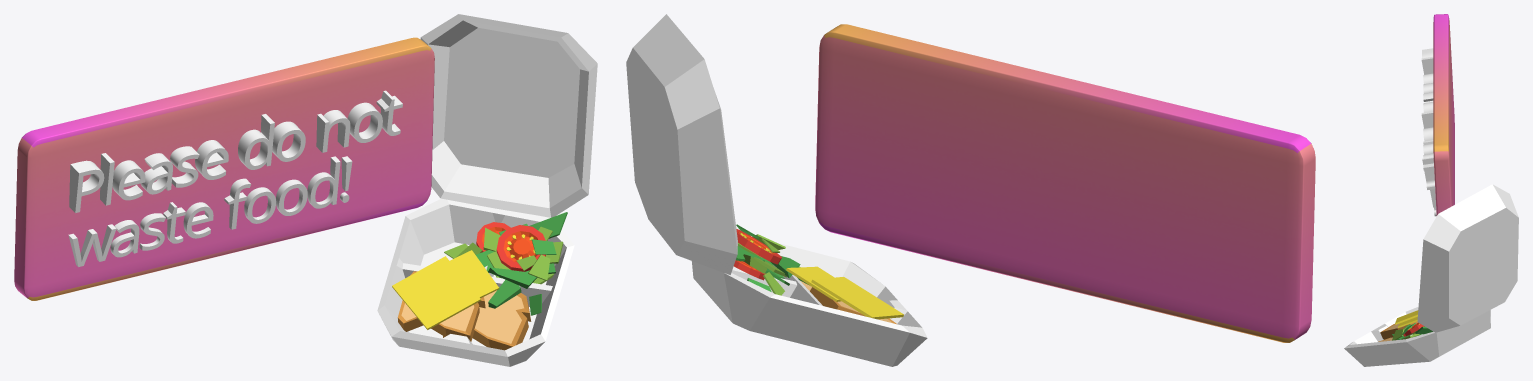
Rendered from Project Name.obj.
3 views of the same model, side by side, from view 1: azimuth 30°, elevation 25°; view 2: azimuth 150°, elevation 25°; view 3: azimuth 270°, elevation 25° (orthographic). The views are drawn at different scales.
Parts seen in each view (by area): view 1: 021_background_-_social_good, 052_mesh1472431247, 026_mesh1318984881, 025_Buffer_Layer, 016_d, 010_P, 027_mesh1788740791, 012_e, 000_w, 015_e, 013_a, 018_n (+20 smaller); view 2: 021_background_-_social_good, 052_mesh1472431247, 026_mesh1318984881, 027_mesh1788740791; view 3: 052_mesh1472431247, 021_background_-_social_good, 020_t, 011_l, 016_d, 022_mesh1298366004, 026_mesh1318984881.
Boxes of the visible parts, left/top/right/bottom form: 021_background_-_social_good: left=14, top=37, right=434, bottom=300; 052_mesh1472431247: left=377, top=14, right=597, bottom=366; 026_mesh1318984881: left=392, top=256, right=480, bottom=329; 025_Buffer_Layer: left=475, top=290, right=523, bottom=343; 016_d: left=238, top=114, right=274, bottom=169; 010_P: left=69, top=160, right=104, bottom=212; 027_mesh1788740791: left=450, top=250, right=499, bottom=298; 012_e: left=112, top=160, right=145, bottom=200; 000_w: left=68, top=224, right=116, bottom=266; 015_e: left=195, top=140, right=228, bottom=179; 013_a: left=140, top=153, right=172, bottom=194; 018_n: left=316, top=110, right=350, bottom=152; 021_background_-_social_good: left=815, top=24, right=1315, bottom=342; 052_mesh1472431247: left=626, top=14, right=927, bottom=366; 026_mesh1318984881: left=811, top=277, right=903, bottom=319; 027_mesh1788740791: left=786, top=266, right=840, bottom=301; 052_mesh1472431247: left=1344, top=184, right=1518, bottom=366; 021_background_-_social_good: left=1433, top=14, right=1454, bottom=215; 020_t: left=1422, top=157, right=1435, bottom=189; 011_l: left=1421, top=57, right=1433, bottom=74; 016_d: left=1421, top=111, right=1433, bottom=128; 022_mesh1298366004: left=1380, top=321, right=1417, bottom=339; 026_mesh1318984881: left=1395, top=310, right=1418, bottom=324.
Size of the model in its own units: 491 by 244 by 187.
10 materials, 1 textured.
